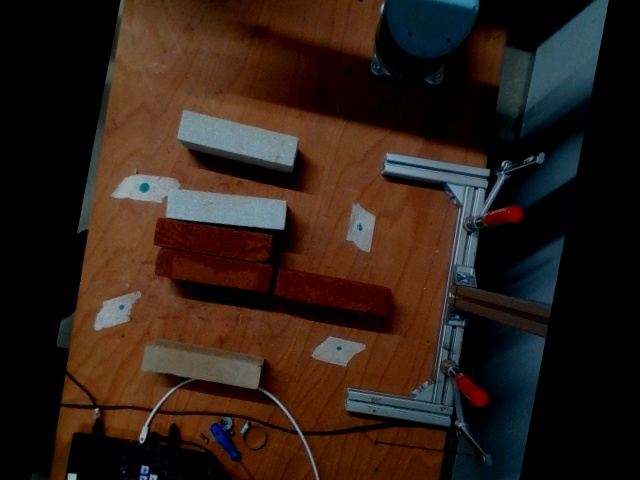brick-side: (177, 112, 297, 166), (153, 244, 273, 294), (272, 266, 392, 315), (141, 341, 261, 390), (152, 217, 272, 263), (166, 189, 285, 228)
